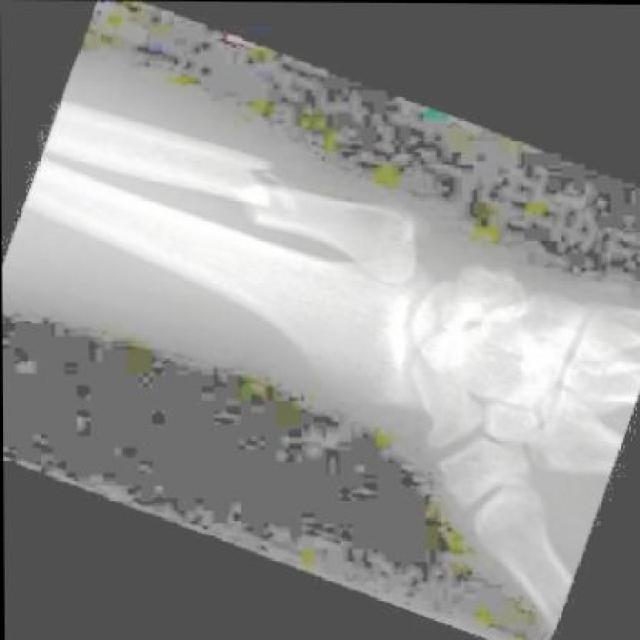Fracture: (213, 142, 306, 243)
